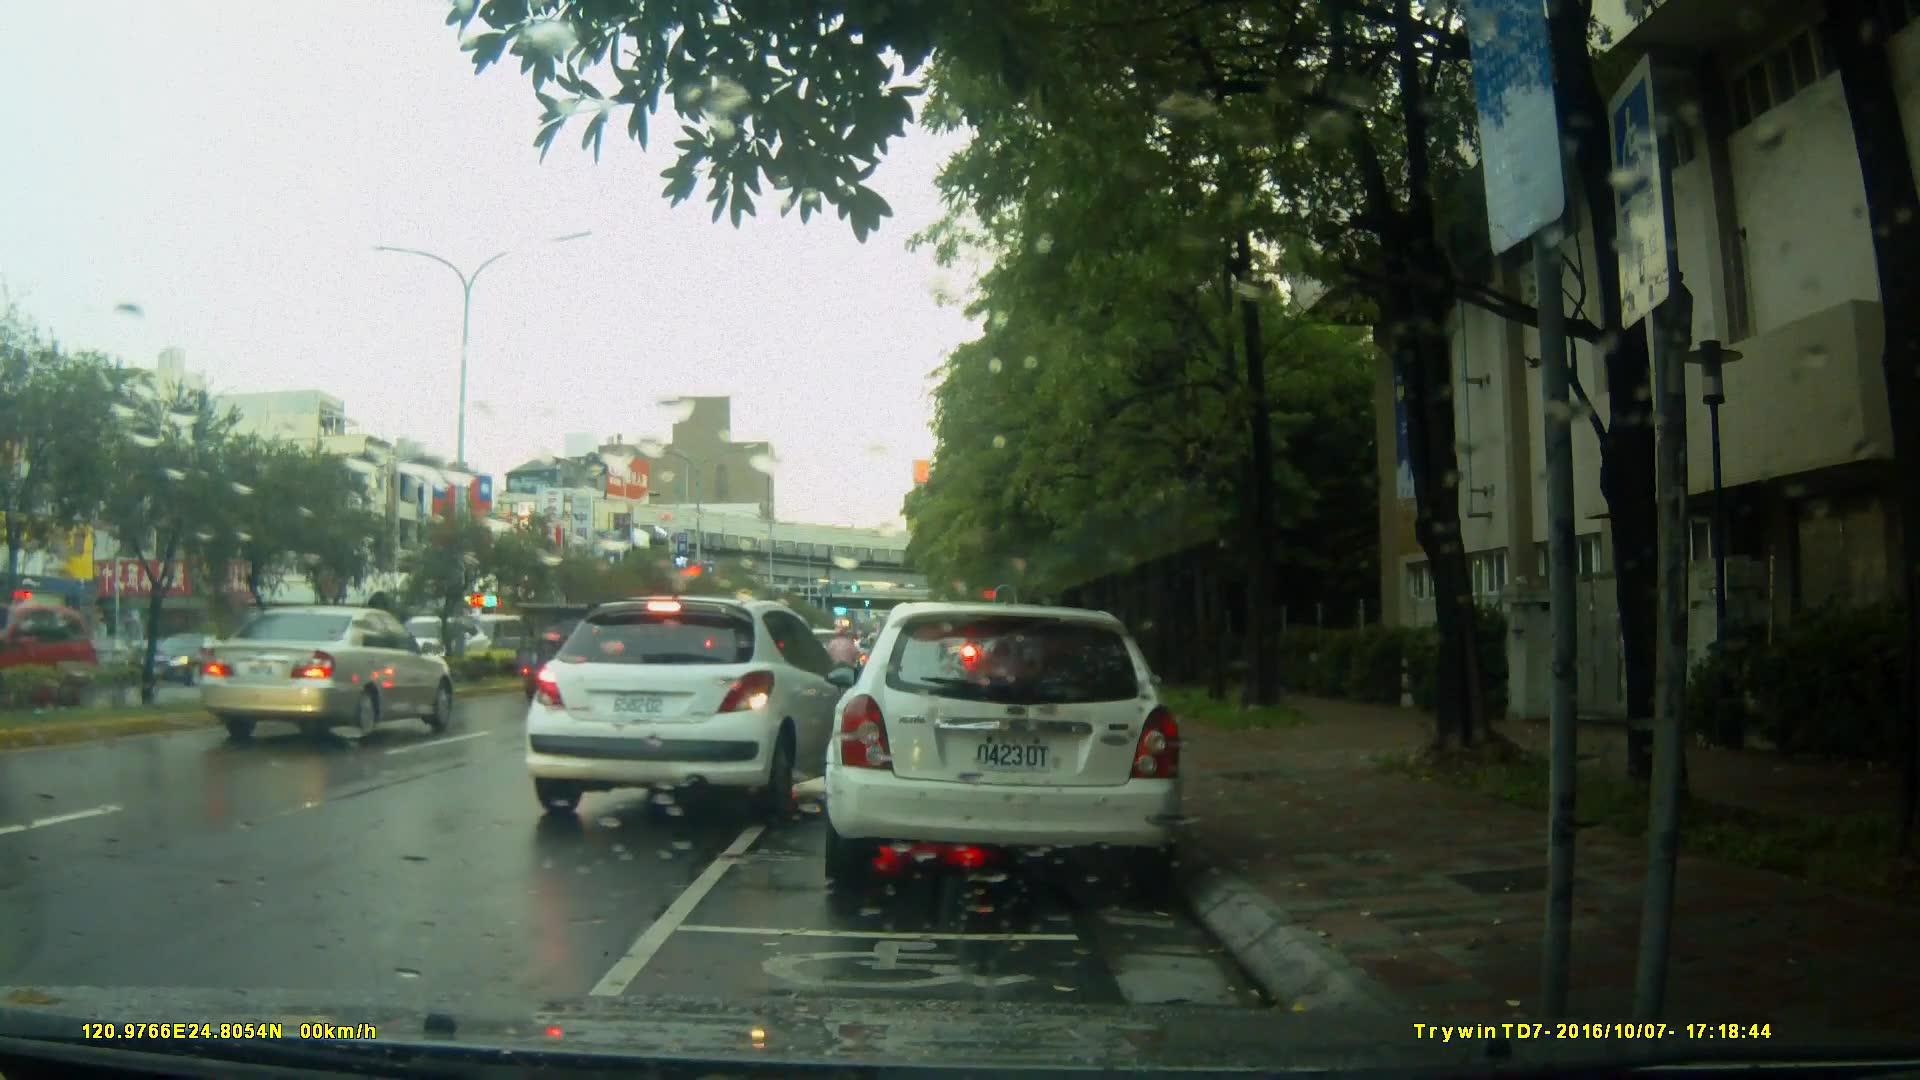rider: (826, 617, 857, 707)
vehicle: (820, 602, 1188, 898), (525, 593, 874, 825), (197, 604, 459, 745), (1, 604, 119, 722), (134, 634, 239, 689)
